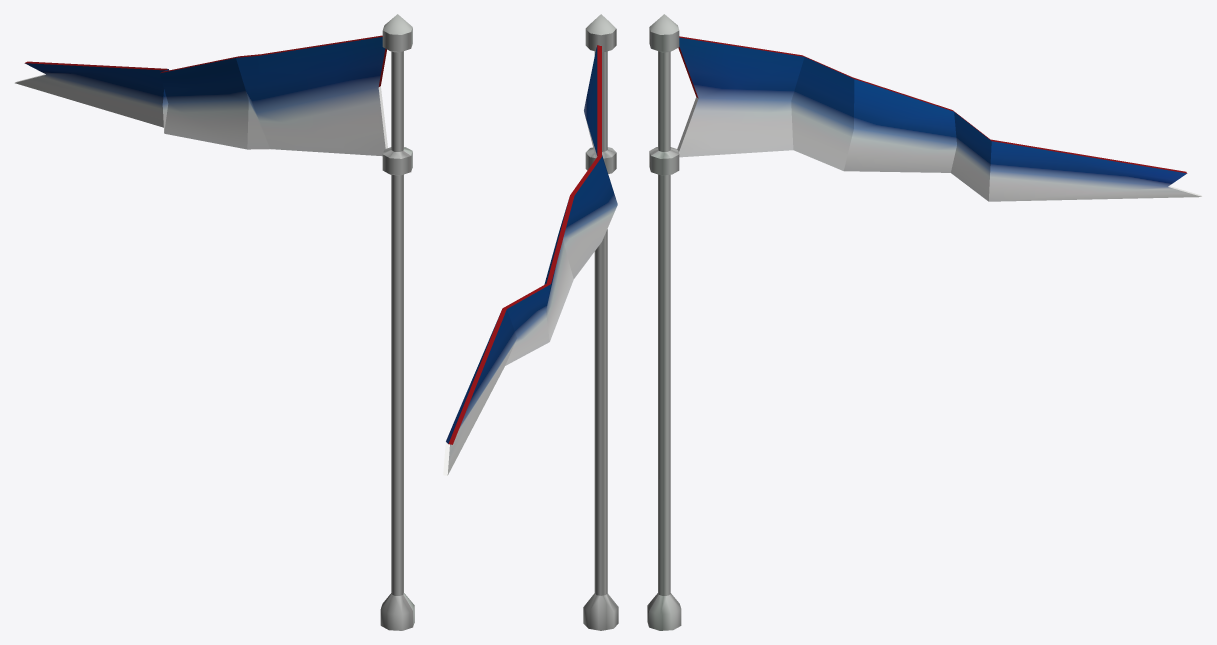
The model's file is castle-flag-blue.lod0.glb.
The picture shows the model from 3 angles, left to right: view 1: azimuth 30°, elevation 25°; view 2: azimuth 150°, elevation 25°; view 3: azimuth 270°, elevation 25°; orthographic projection.
Parts seen in each view (by area): view 1: Castle-flag-blue_Texture-base_0; view 2: Castle-flag-blue_Texture-base_0; view 3: Castle-flag-blue_Texture-base_0.
Boxes of the visible parts, left/top/right/bottom form: Castle-flag-blue_Texture-base_0: left=15, top=14, right=414, bottom=630; Castle-flag-blue_Texture-base_0: left=443, top=14, right=618, bottom=630; Castle-flag-blue_Texture-base_0: left=647, top=14, right=1202, bottom=630.
Bounding box in the file's own units: 1.34 × 6 × 4.95.
1 material, 1 textured.
